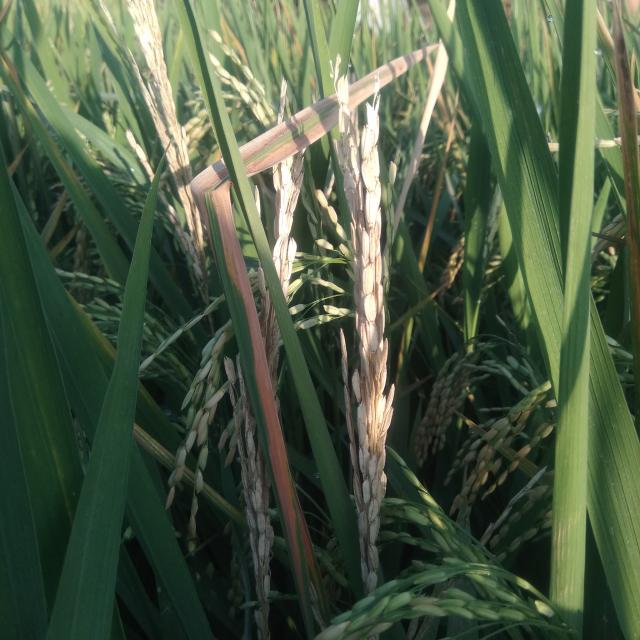Brown spot: (241, 379, 302, 502), (248, 96, 320, 182), (275, 505, 327, 619), (353, 40, 442, 106), (193, 184, 247, 276), (217, 280, 267, 376)
